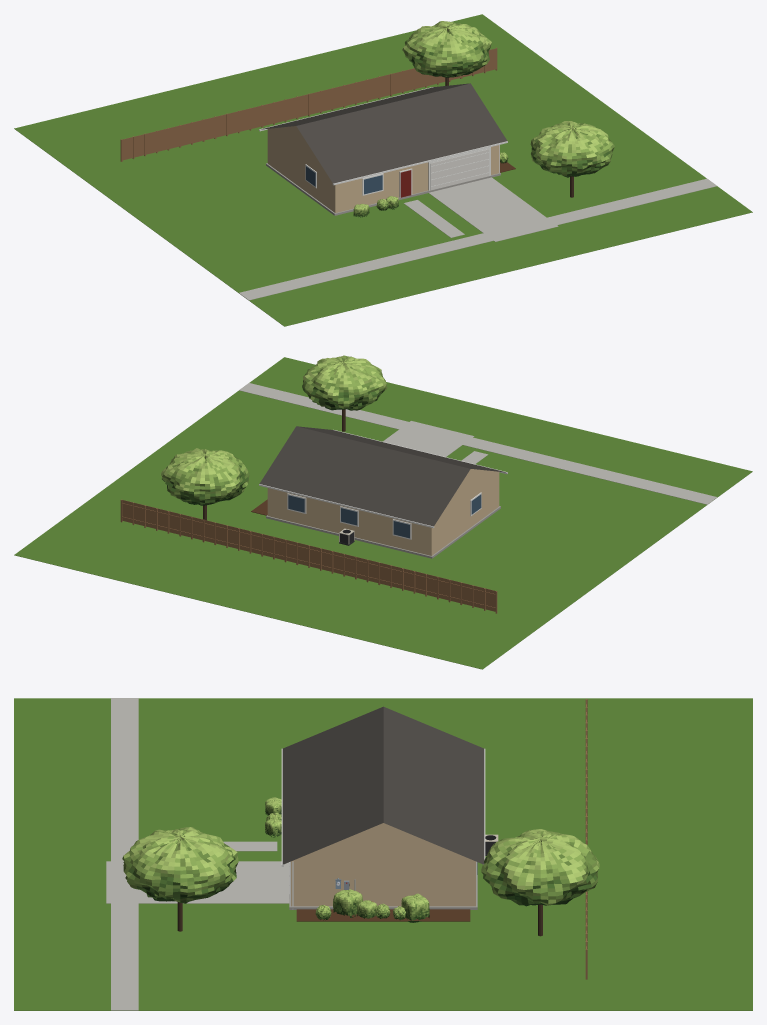
File: home_06_pre_install.obj
3 renders of one model, top to bottom at view 1: azimuth 30°, elevation 25°; view 2: azimuth 150°, elevation 25°; view 3: azimuth 270°, elevation 25°, orthographic. The views are drawn at different scales.
Visible parts, largest first — view 1: yard, house, tree_2, tree_1; view 2: yard, house, tree_2, tree_1; view 3: yard, house, tree_2, tree_1, mulch_bed_side, bush_boxwood_3, bush_boxwood_4.
Part boxes in pixels (box(x1,y1,x2,y2)): yard: box(14, 14, 752, 326); house: box(259, 83, 507, 215); tree_2: box(402, 21, 491, 85); tree_1: box(530, 121, 614, 197); yard: box(14, 357, 752, 669); house: box(259, 426, 507, 558); tree_2: box(161, 448, 249, 520); tree_1: box(302, 355, 387, 431); yard: box(14, 698, 752, 1010); house: box(281, 706, 485, 909); tree_2: box(481, 829, 599, 936); tree_1: box(122, 827, 238, 931); mulch_bed_side: box(296, 909, 470, 921); bush_boxwood_3: box(333, 889, 362, 917); bush_boxwood_4: box(401, 893, 429, 922).
Bounding box in the file's own units: 40 × 5.87 × 40.
